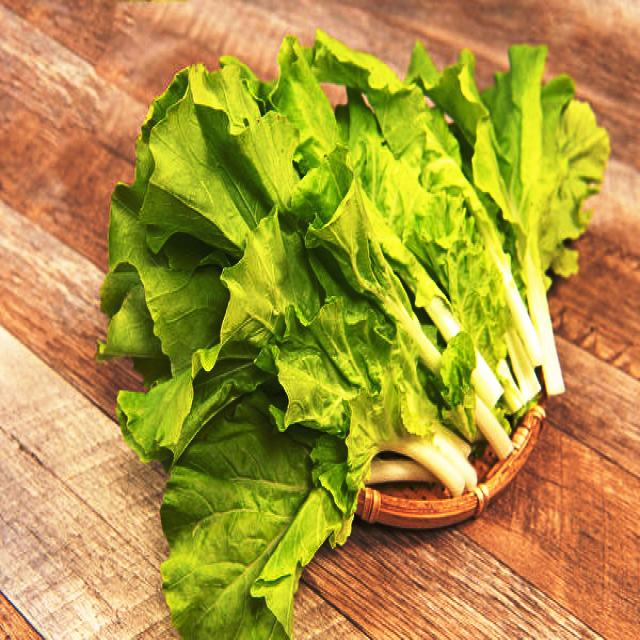chinese_cabbage: (114, 41, 591, 627)
